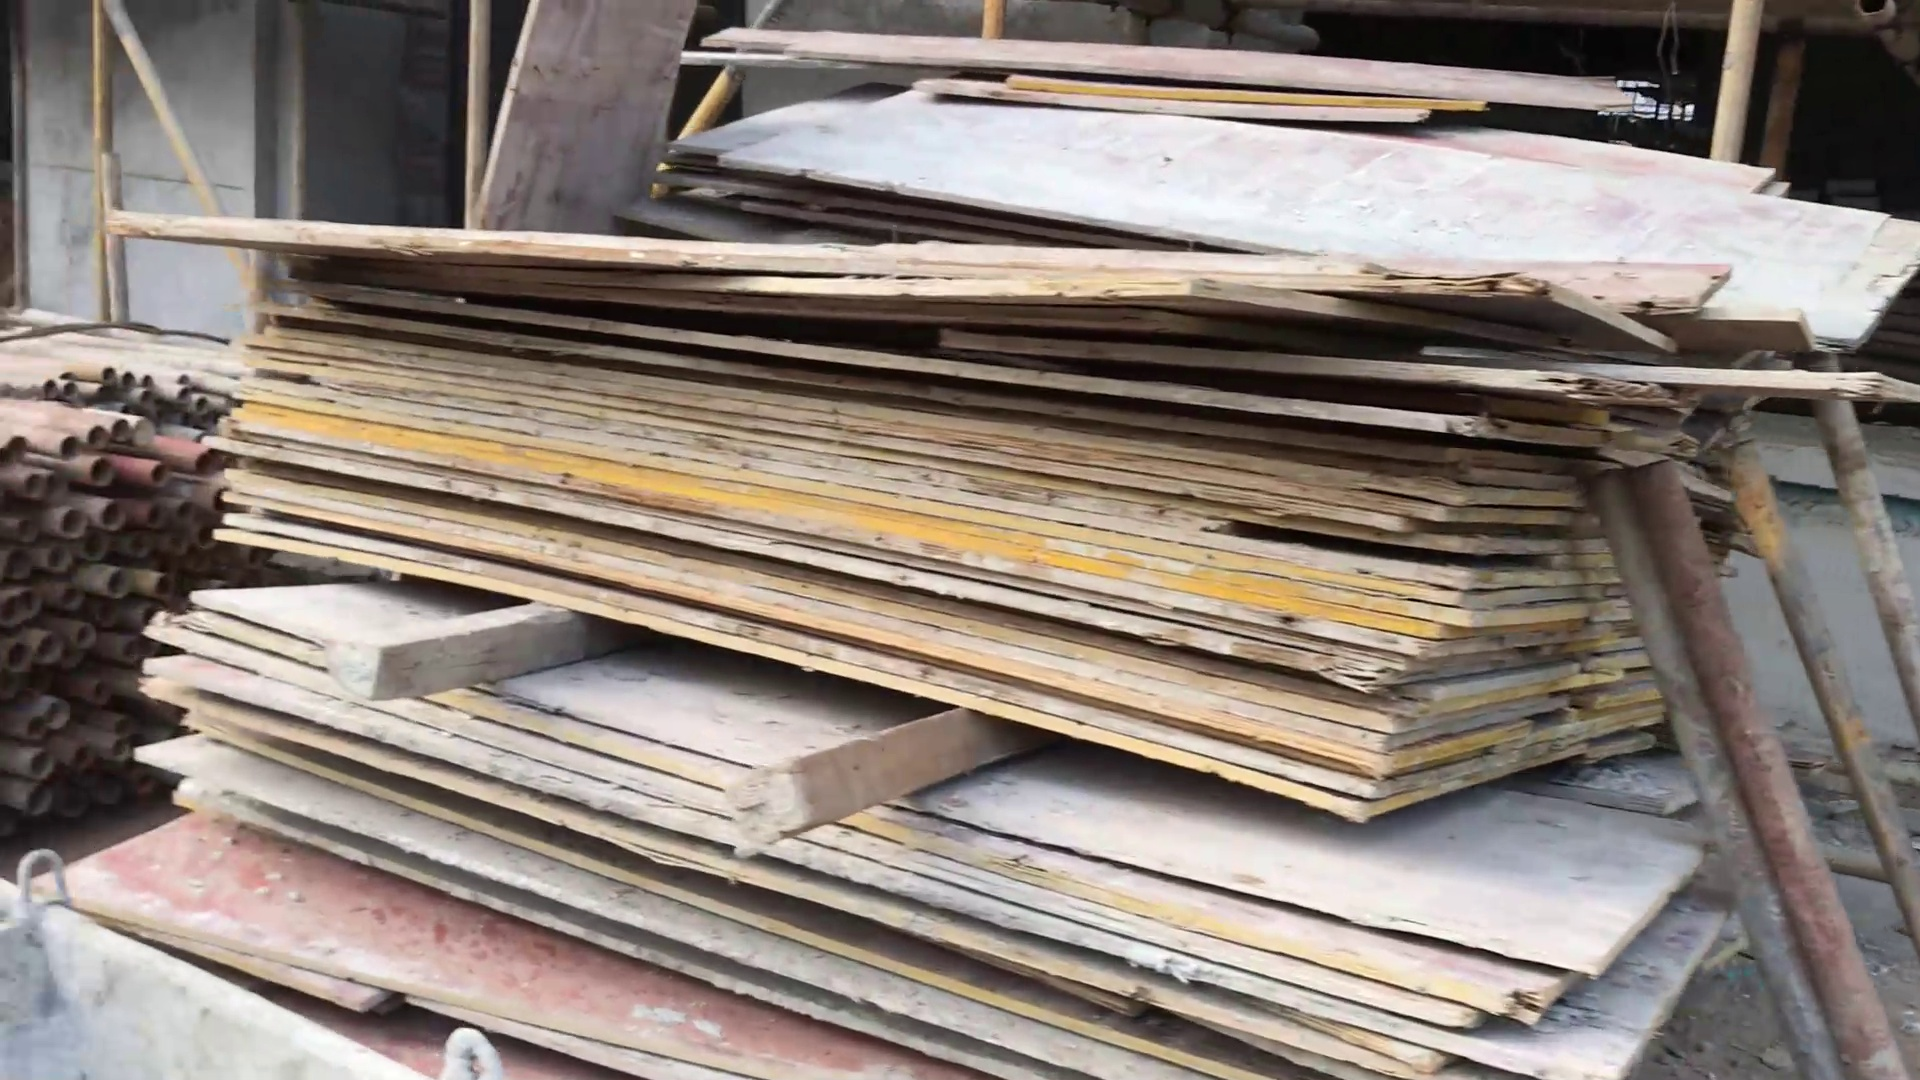board: (76, 36, 1882, 1080)
scaffold: (1, 324, 236, 828)
